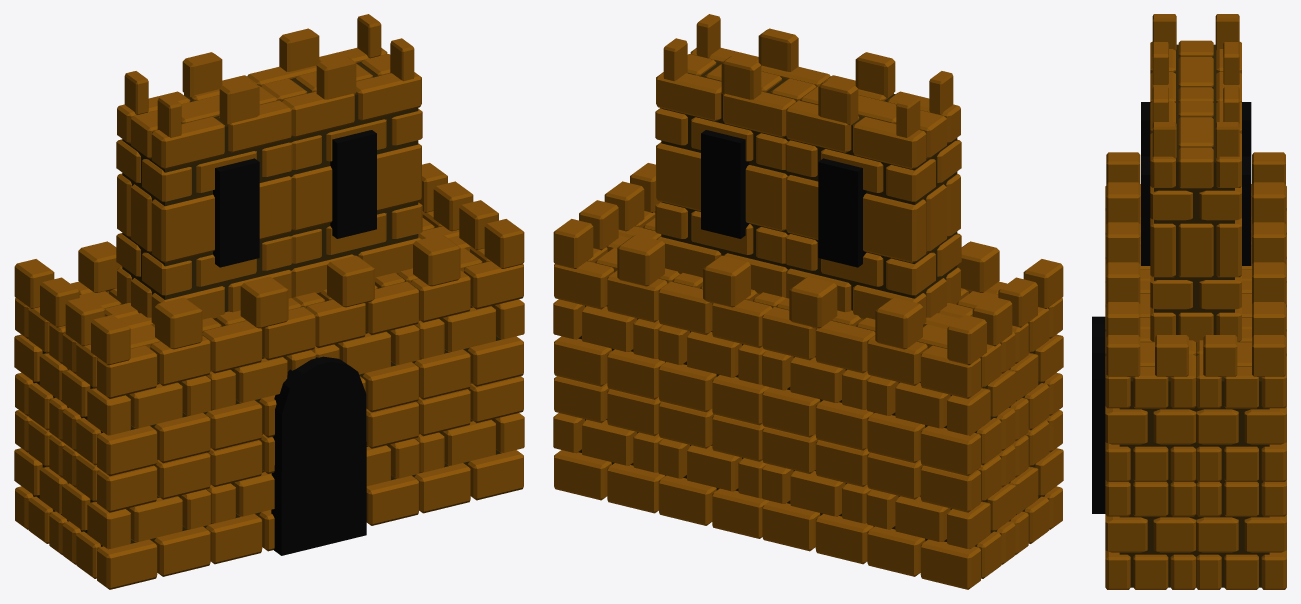
File: castle.glb
3 views of the same model, side by side, from view 1: azimuth 30°, elevation 25°; view 2: azimuth 150°, elevation 25°; view 3: azimuth 270°, elevation 25° (orthographic). The views are drawn at different scales.
Visible parts, largest first — view 1: Castle_01 - Default_0, Castle_03 - Default_0, Castle_02 - Default_0; view 2: Castle_01 - Default_0, Castle_03 - Default_0, Castle_02 - Default_0; view 3: Castle_01 - Default_0, Castle_02 - Default_0, Castle_03 - Default_0.
Part boxes in pixels (x1,y1,x2,y2): Castle_01 - Default_0: (14, 14, 524, 589); Castle_03 - Default_0: (213, 130, 376, 555); Castle_02 - Default_0: (32, 61, 501, 549); Castle_01 - Default_0: (553, 14, 1063, 589); Castle_03 - Default_0: (701, 130, 866, 267); Castle_02 - Default_0: (578, 61, 1045, 546); Castle_01 - Default_0: (1105, 14, 1286, 589); Castle_02 - Default_0: (1119, 44, 1269, 587); Castle_03 - Default_0: (1092, 102, 1251, 513).
Bounding box in the file's own units: 4042 × 4121 × 1716.
